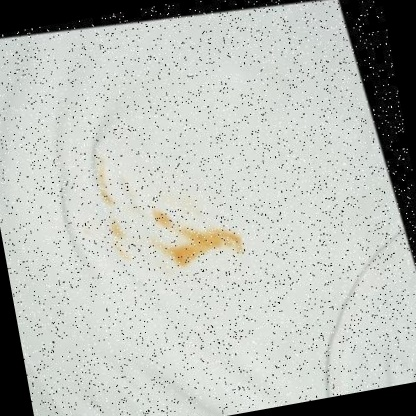kimchi: (161, 218, 249, 267), (87, 152, 116, 209), (105, 210, 132, 266), (143, 208, 174, 236)
